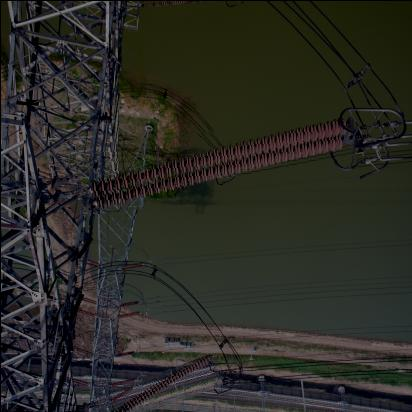insulator: (76, 124, 358, 208), (93, 365, 223, 412)
